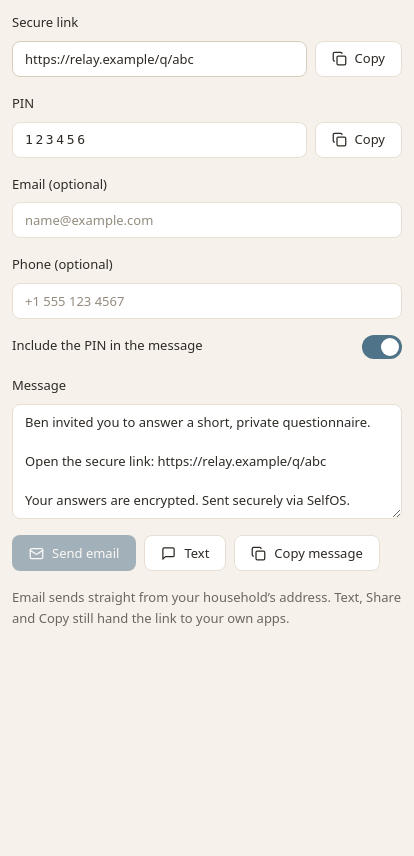
Test: RelayLinkDelivery real Resend send (67 P1 / family A) › sends via Resend when email is connected: the button is "Send email" and a success banner shows
Expected: the button "Send email" is disabled, [12,536,136,572]
Type "alex@example.com" into the field labelled "Email (optional)". click: [207, 220]
box: [12,202,402,238]
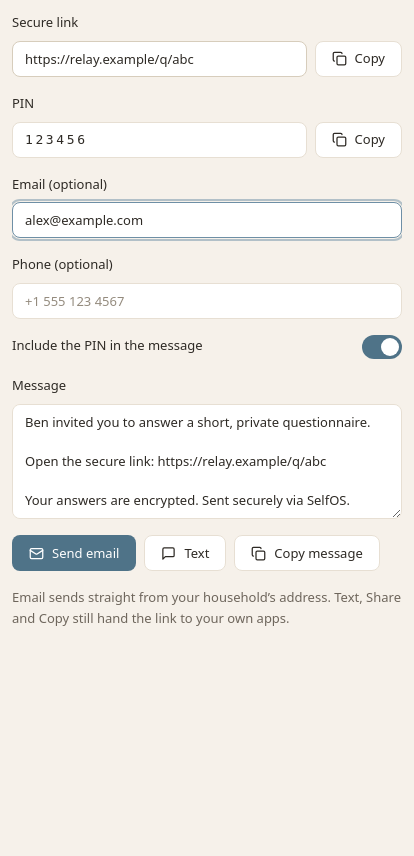
Expected: the button "Send email" is enabled
Click the button "Send email". click: [74, 554]
box: [12,536,136,572]
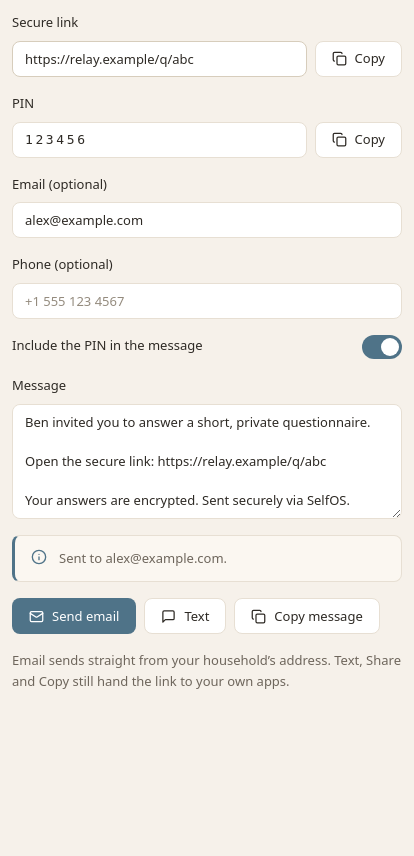
Expected: the text "Sent to alex@example.com." is shown, [59,548,227,569]
